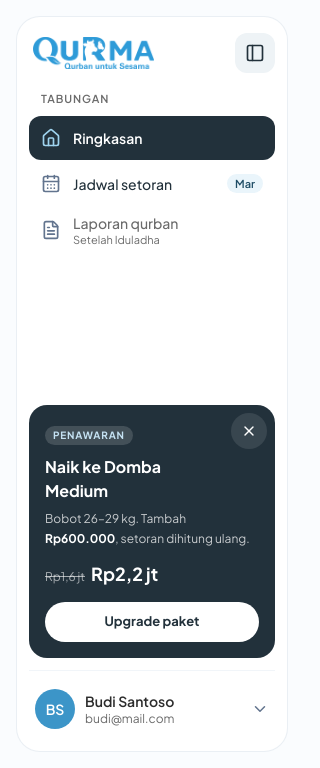
it: MemberSidebar › ciutkan sidebar: cookie tersimpan, banner jadi tombol ikon
The width and height of the screenshot is (320, 768).
Click the button named "Ciutkan sidebar": (255, 53) [235,33,275,73]
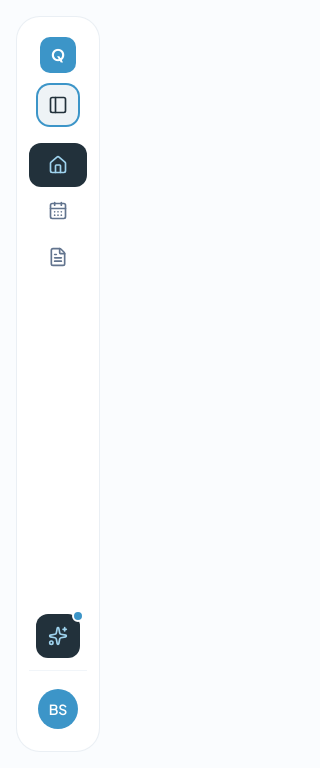
Expected: the link named "Ringkasan" is shown, [29,143,87,187]
Expected: the button named "Buka sidebar" is collapsed, [38,85,78,125]
Expected: the button named "Penawaran: naik ke Domba Medium" is shown, [36,614,80,658]
